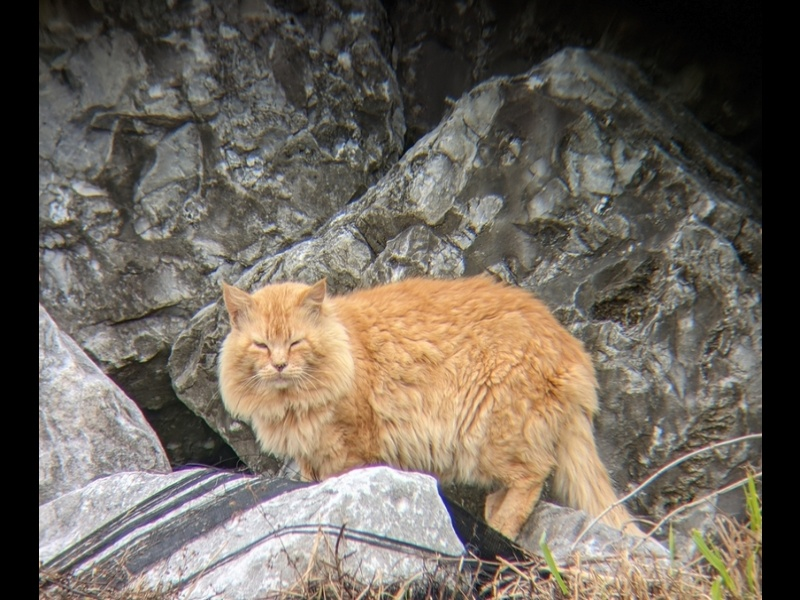cat: (211, 275, 653, 548)
